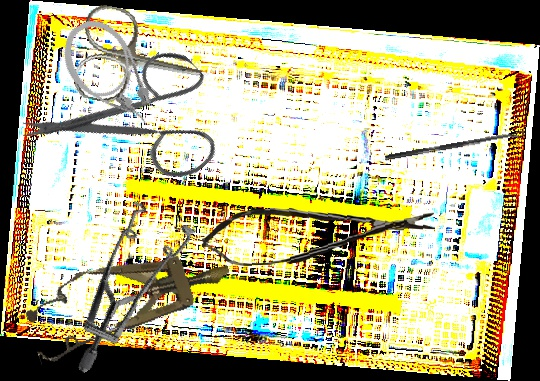Cannula: (51, 9, 166, 146)
Iris Scissors: (16, 9, 250, 242), (70, 1, 219, 123)
Micro Scissor: (200, 199, 437, 269)
Speculum: (21, 182, 230, 375), (18, 230, 241, 369)
Surgical Spoon: (384, 130, 525, 162)
